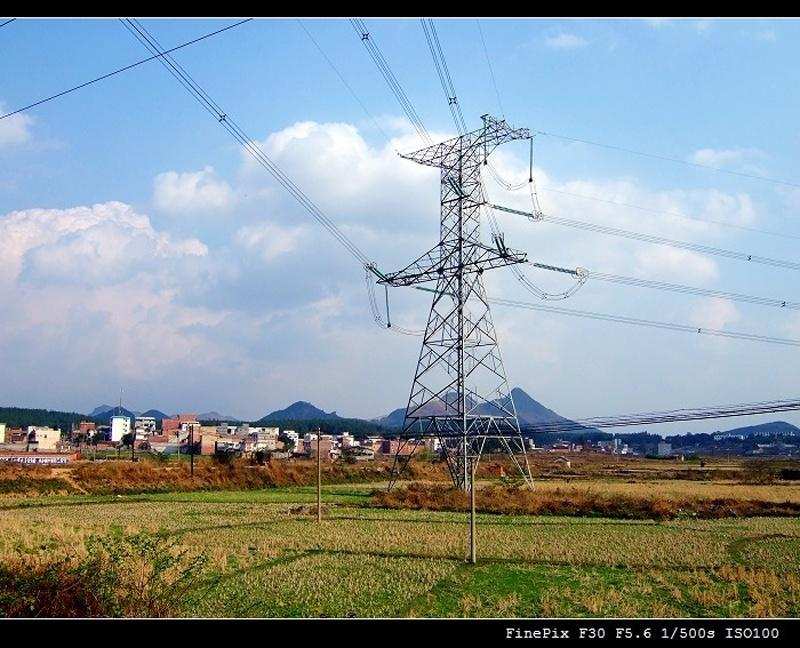power_tower: (393, 131, 546, 486)
